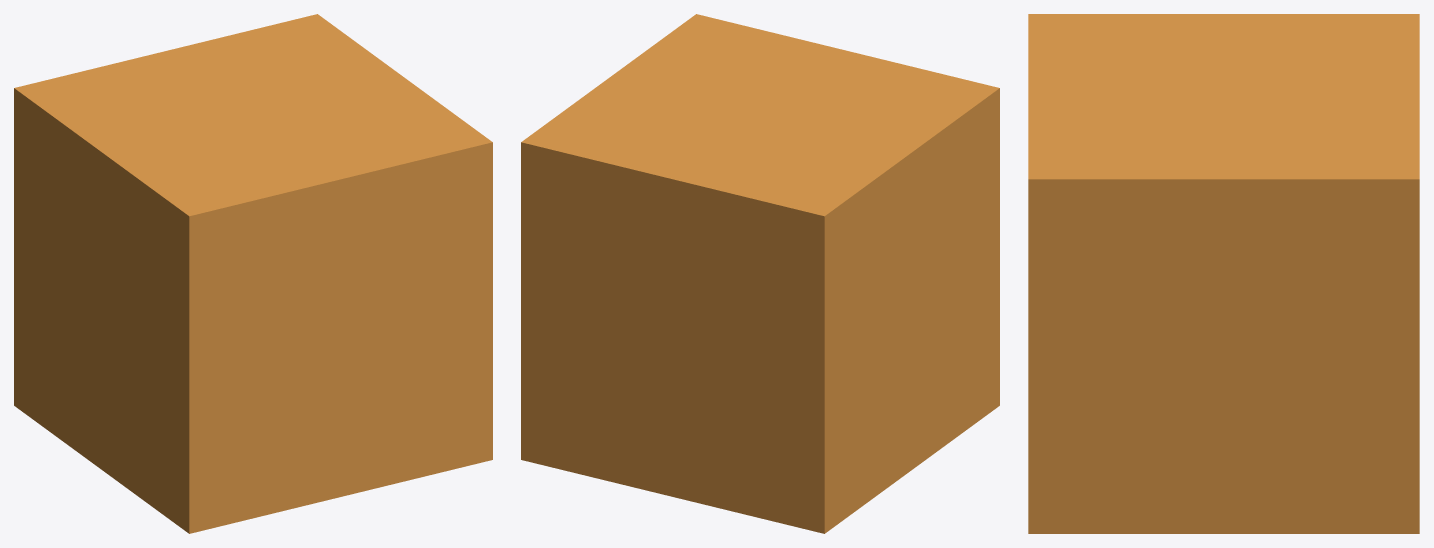
Rendered from cube__edge.glb.
The picture shows the model from 3 angles, left to right: view 1: azimuth 30°, elevation 25°; view 2: azimuth 150°, elevation 25°; view 3: azimuth 270°, elevation 25°; orthographic projection. The views are drawn at different scales.
Visible parts, largest first — view 1: Cube; view 2: Cube; view 3: Cube.
Boxes of the visible parts, x1,y1,x2,y2 form: Cube: (14,14,492,533); Cube: (521,14,999,533); Cube: (1028,14,1419,533).
Size of the model in its own units: 0.6 by 0.6 by 0.6.
